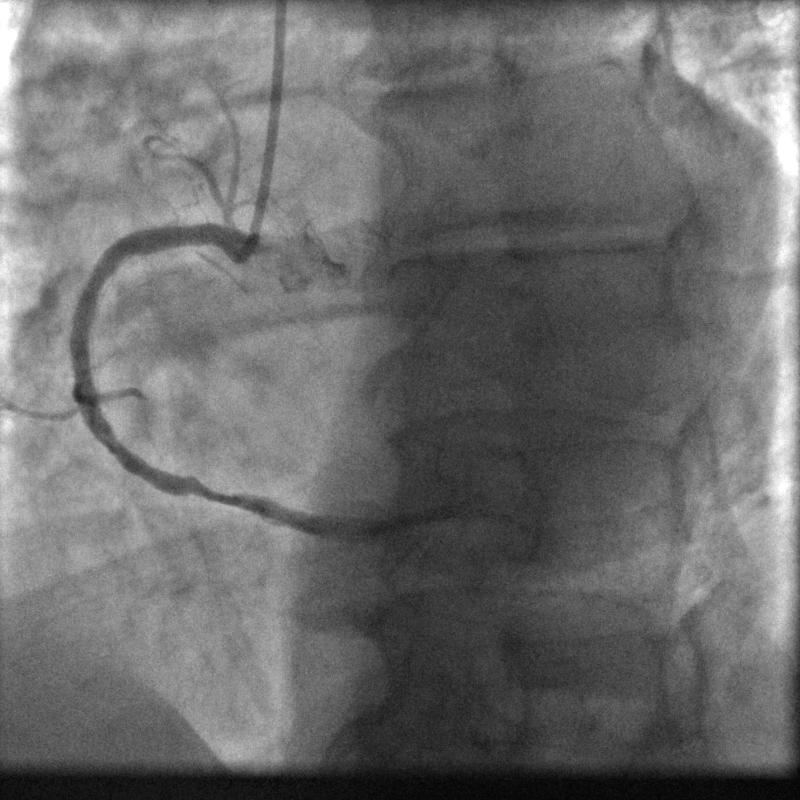Stenosis: (179, 472, 257, 514)
